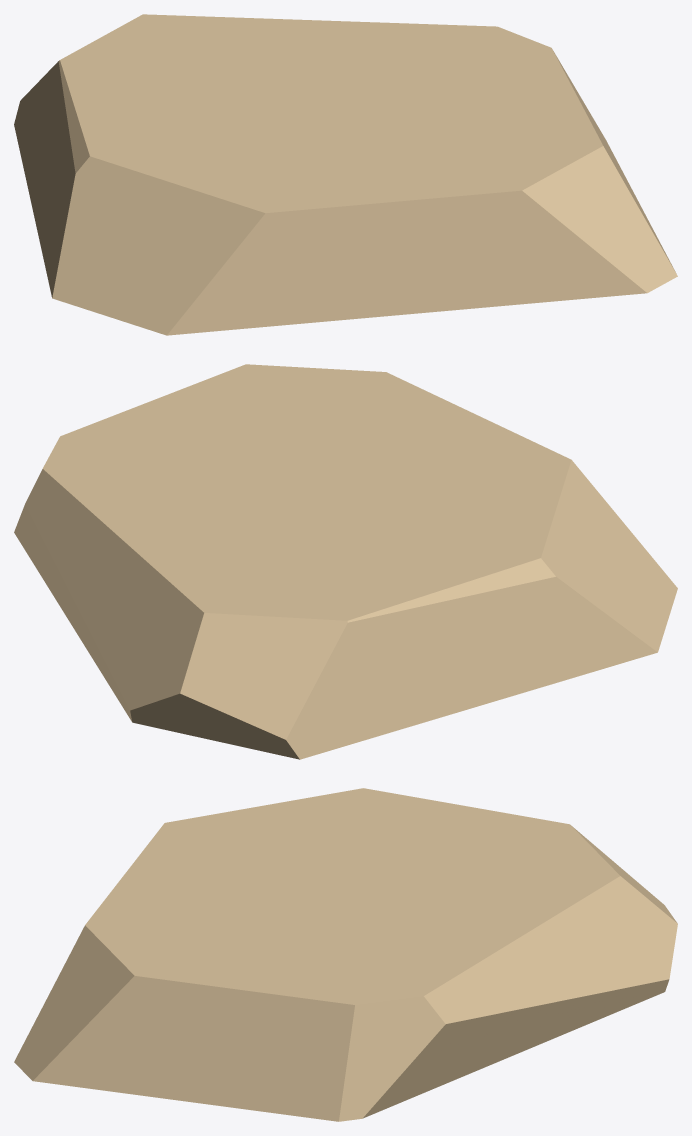
Rendered from roca6.glb.
The picture shows the model from 3 angles, top to bottom: view 1: azimuth 30°, elevation 25°; view 2: azimuth 150°, elevation 25°; view 3: azimuth 270°, elevation 25°; orthographic projection. The views are drawn at different scales.
Parts seen in each view (by area): view 1: small_rock_08_Cylinder_008; view 2: small_rock_08_Cylinder_008; view 3: small_rock_08_Cylinder_008.
Part boxes in pixels (bbox=[...]): small_rock_08_Cylinder_008: bbox=[14, 14, 677, 335]; small_rock_08_Cylinder_008: bbox=[14, 364, 677, 759]; small_rock_08_Cylinder_008: bbox=[14, 788, 677, 1121].
Bounding box in the file's own units: 1.46 × 0.2363 × 1.5.
